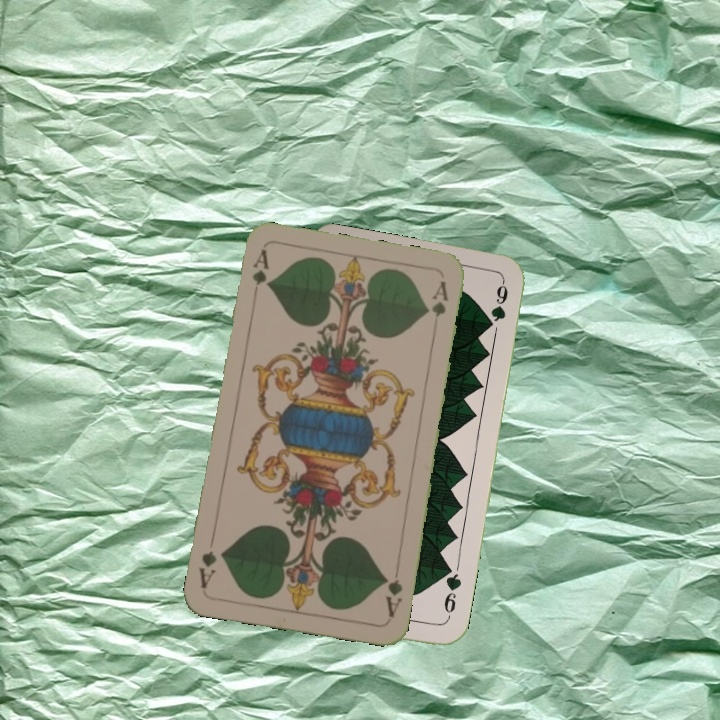G9: (440, 563, 464, 623)
GA: (380, 562, 405, 620), (248, 246, 271, 305)
